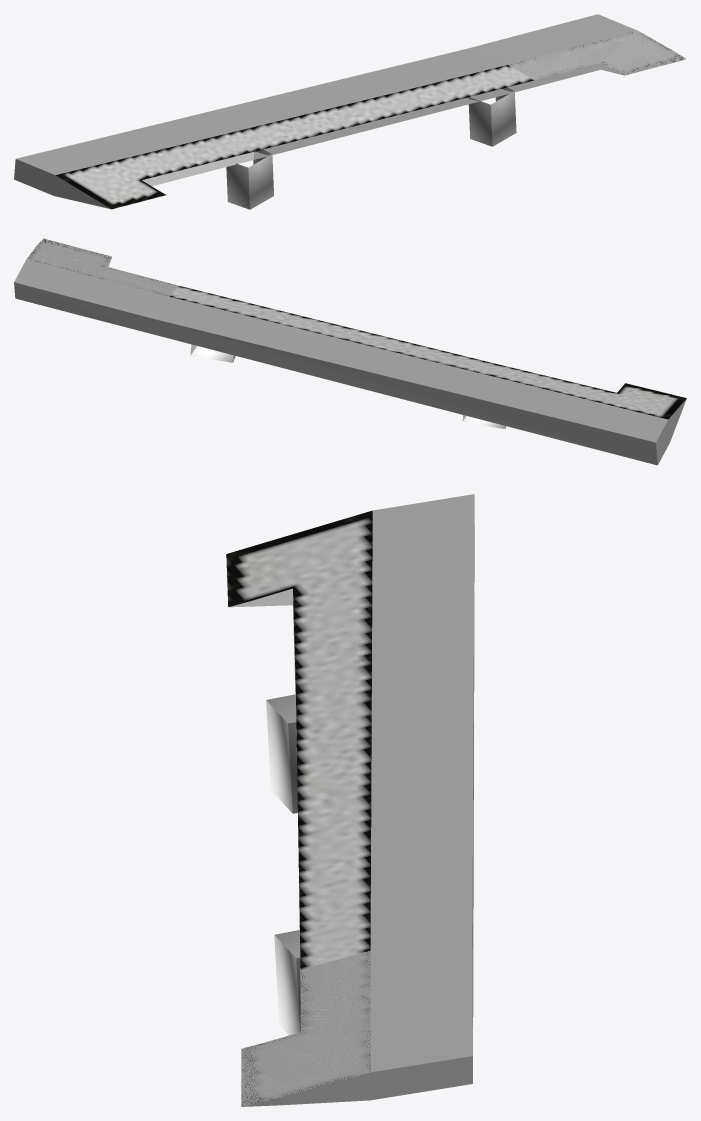
The model's file is rightOuterFlaps.dae.
The picture shows the model from 3 angles, top to bottom: view 1: azimuth 30°, elevation 25°; view 2: azimuth 150°, elevation 25°; view 3: azimuth 270°, elevation 25°; orthographic projection. The views are drawn at different scales.
Visible parts, largest first — view 1: SketchUp (×8); view 2: SketchUp (×4); view 3: SketchUp (×6).
Part boxes in pixels (box(x1,y1,x2,y2)): SketchUp (×8): box(14, 14, 686, 209); SketchUp (×4): box(14, 238, 686, 465); SketchUp (×6): box(226, 494, 474, 1106).
Bounding box in the file's own units: 261 × 45.62 × 24.95.
4 materials, 1 textured.
